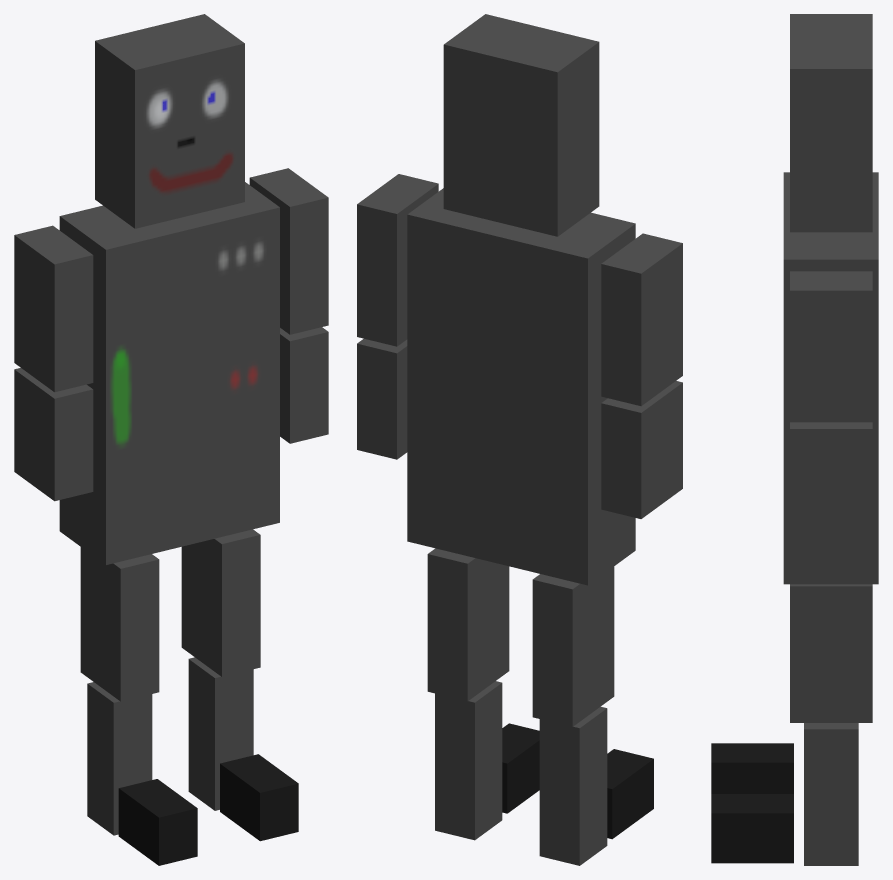
Rendered from robot.obj.
The picture shows the model from 3 angles, left to right: view 1: azimuth 30°, elevation 25°; view 2: azimuth 150°, elevation 25°; view 3: azimuth 270°, elevation 25°; orthographic projection. The views are drawn at different scales.
Visible parts, largest first — view 1: body, head, ruarm, ruleg, luleg, rlarm, luarm, llleg, rlleg, rfoot, lfoot, llarm; view 2: body, head, ruarm, ruleg, luleg, rlleg, llleg, rlarm, luarm, llarm, rfoot, lfoot; view 3: head, body, luarm, luleg, llarm, llleg, lfoot, rfoot.
Part boxes in pixels (<box>): body: <box>59,182,279,564</box>; head: <box>95,14,244,228</box>; ruarm: <box>14,225,93,392</box>; ruleg: <box>80,547,159,701</box>; luleg: <box>181,529,260,676</box>; rlarm: <box>14,368,93,501</box>; luarm: <box>249,168,328,334</box>; llleg: <box>188,657,253,810</box>; rlleg: <box>87,682,152,835</box>; rfoot: <box>118,779,197,865</box>; lfoot: <box>220,754,298,841</box>; llarm: <box>280,327,328,443</box>; body: <box>407,188,635,585</box>; head: <box>443,14,599,236</box>; ruarm: <box>601,233,682,406</box>; ruleg: <box>532,566,614,726</box>; luleg: <box>427,548,509,701</box>; rlleg: <box>539,706,607,865</box>; llleg: <box>435,681,502,840</box>; rlarm: <box>601,381,682,518</box>; luarm: <box>357,174,438,346</box>; llarm: <box>357,338,407,459</box>; rfoot: <box>607,749,653,839</box>; lfoot: <box>502,723,539,813</box>; head: <box>790,14,872,232</box>; body: <box>783,172,878,584</box>; luarm: <box>790,271,872,422</box>; luleg: <box>790,584,872,722</box>; llarm: <box>790,422,872,534</box>; llleg: <box>804,723,858,865</box>; lfoot: <box>711,794,793,863</box>; rfoot: <box>711,743,793,793</box>.
Size of the model in its own units: 0.4402 by 1.18 by 0.2265.
1 material, 1 textured.
